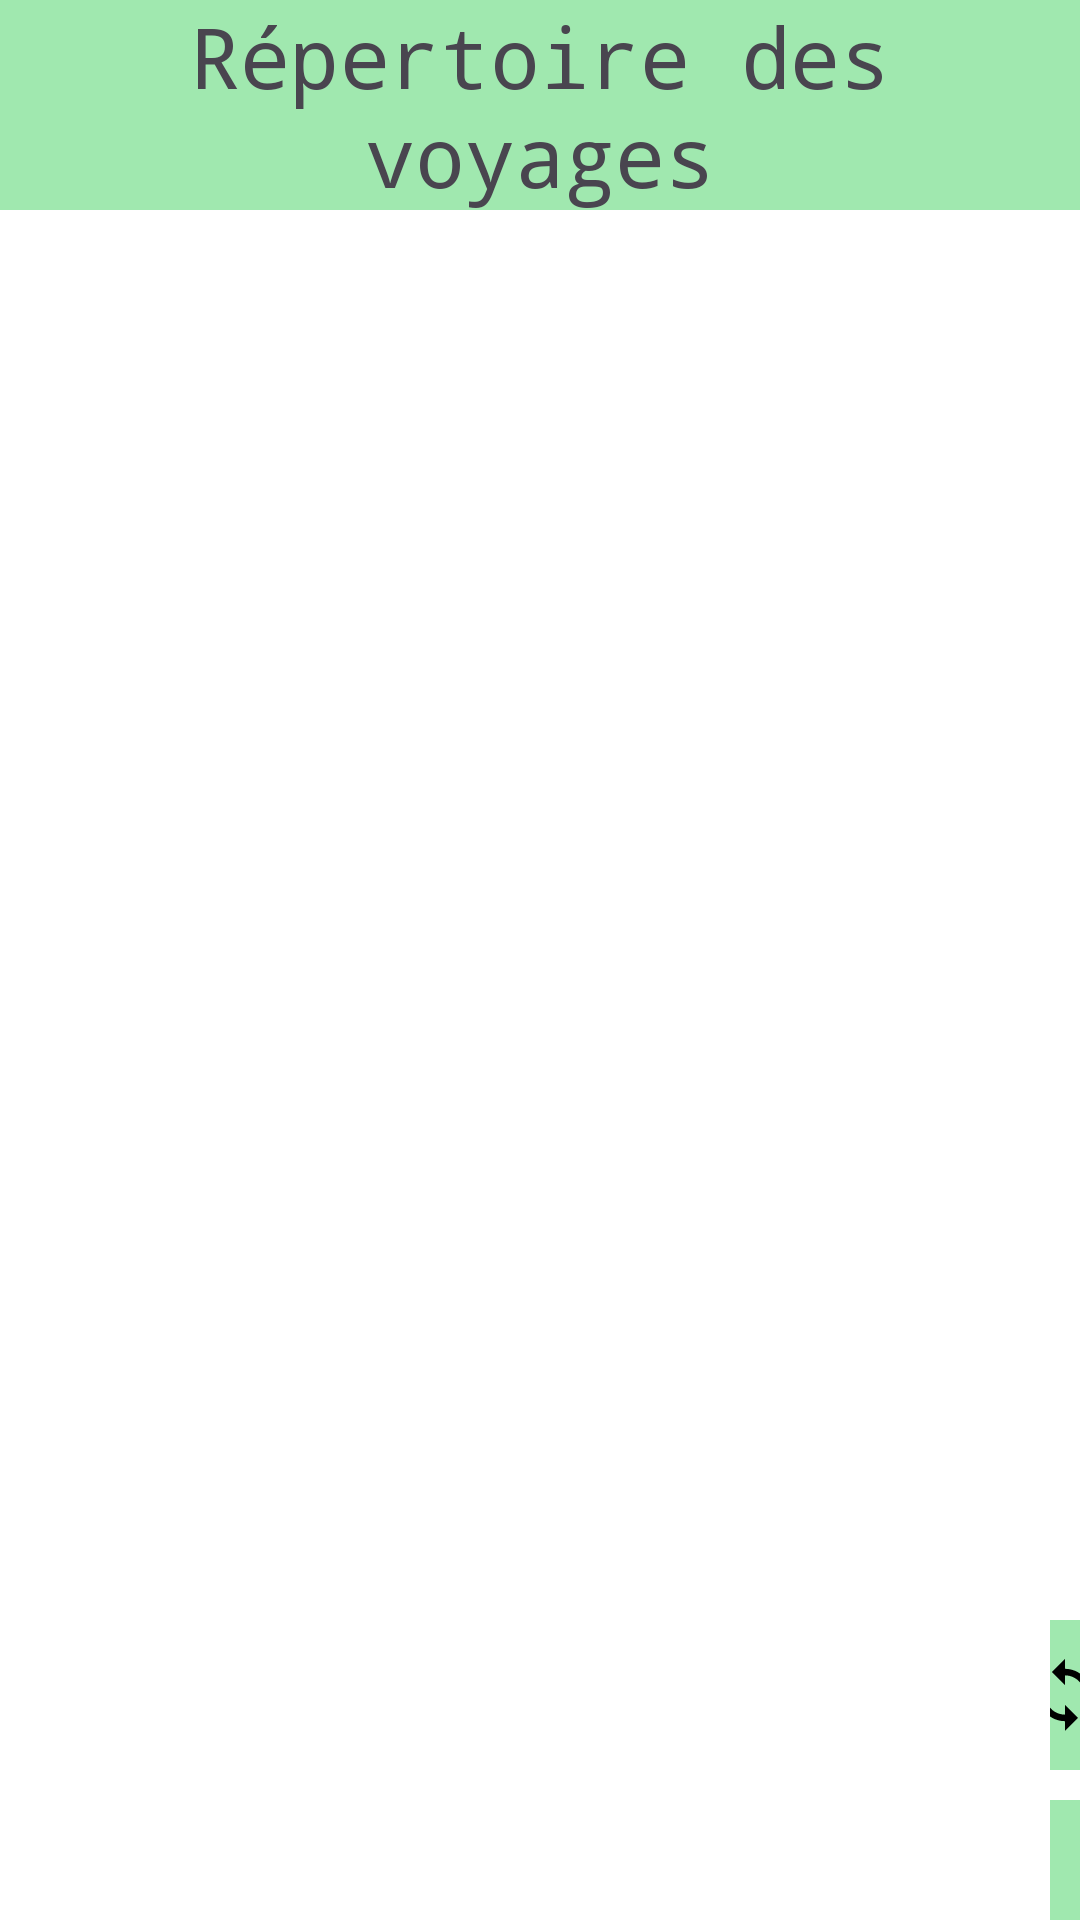

Icon click points for this 1080w x 1920h phone screenshot, format (x=x, y=y):
rafraichissement de l'affichage des voyages: (x=1065, y=1695)
